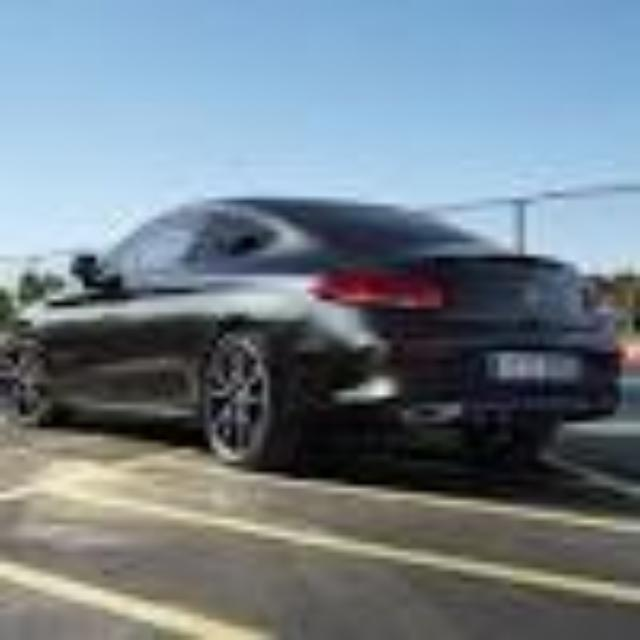benz: (0, 194, 640, 471)
